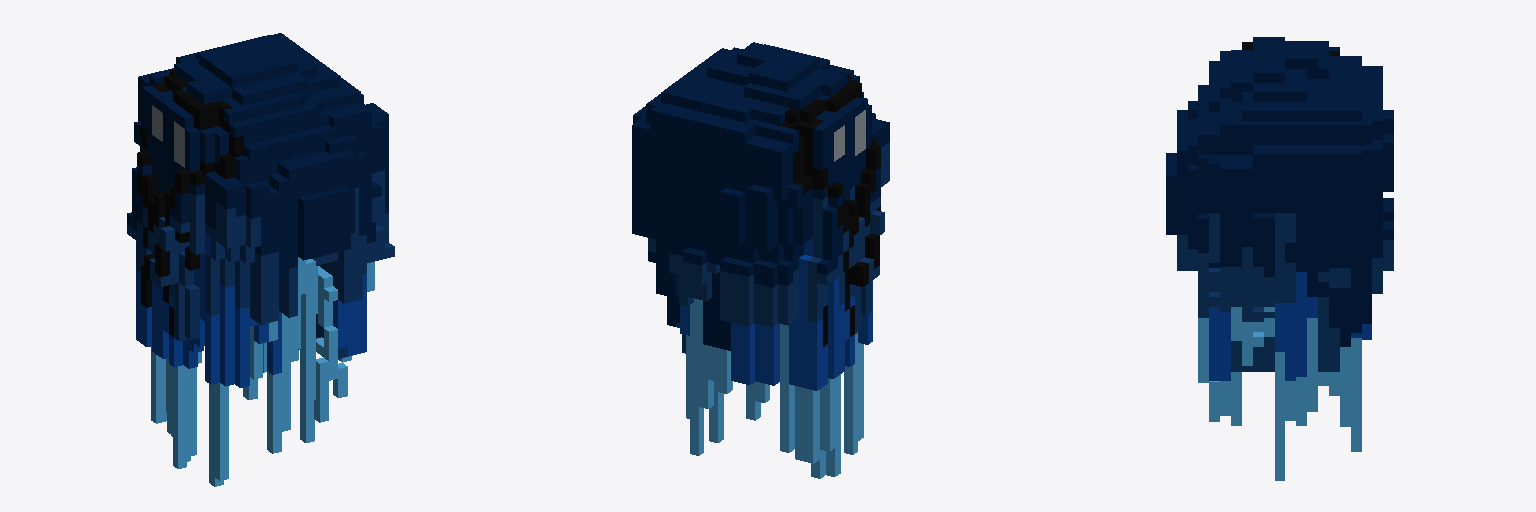
The picture shows the model from 3 angles: view 1: azimuth 30°, elevation 25°; view 2: azimuth 150°, elevation 25°; view 3: azimuth 270°, elevation 25°; orthographic projection.
Parts seen in each view (by area): view 1: object 1; view 2: object 1; view 3: object 1.
Part boxes in pixels (x1,y1,x2,y2): object 1: (127,33,394,486); object 1: (632,42,889,478); object 1: (1166,37,1393,480).
Bounding box in the file's own units: 2.2 × 4 × 2.1.
1 materials, 1 textured.